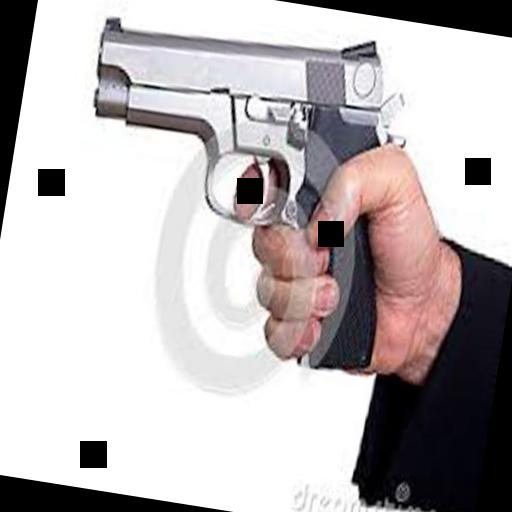Handgun: (52, 0, 424, 376)
